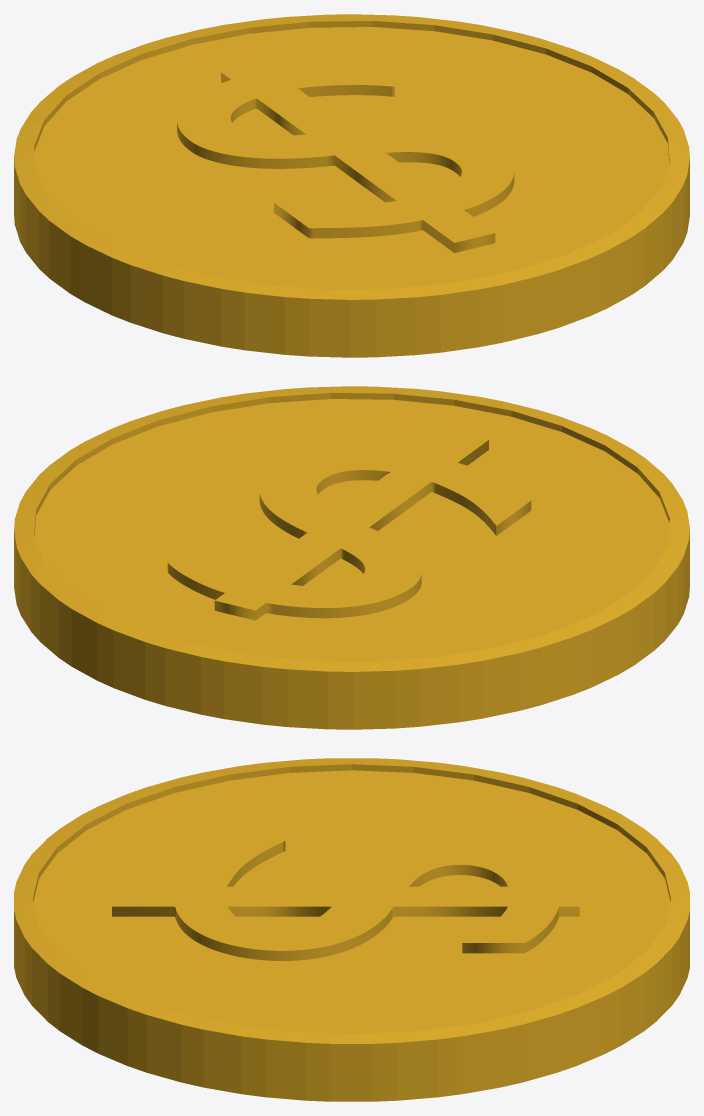
File: coins (1).fbx
The picture shows the model from 3 angles, top to bottom: view 1: azimuth 30°, elevation 25°; view 2: azimuth 150°, elevation 25°; view 3: azimuth 270°, elevation 25°; orthographic projection.
Parts seen in each view (by area): view 1: Coin; view 2: Coin; view 3: Coin.
Boxes of the visible parts, box(x1,y1,x2,y2) form: Coin: box(14, 14, 689, 357); Coin: box(14, 386, 689, 729); Coin: box(14, 758, 689, 1101).
Size of the model in its own units: 199 by 21.83 by 199.
